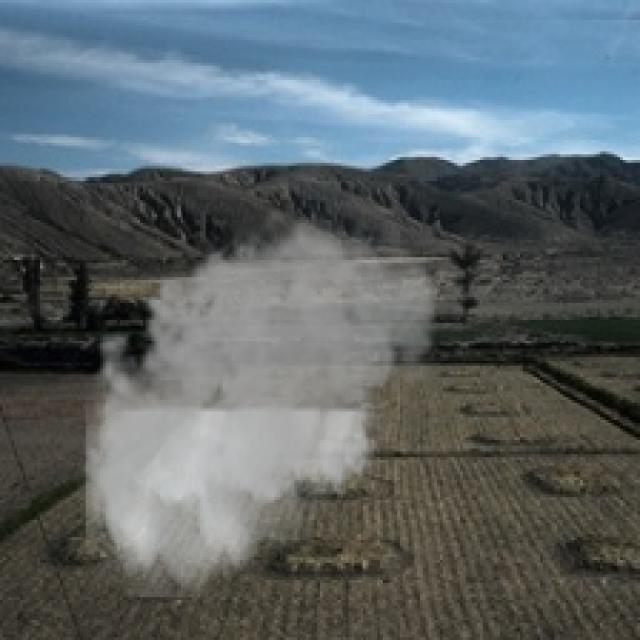smoke: (71, 200, 446, 597)
